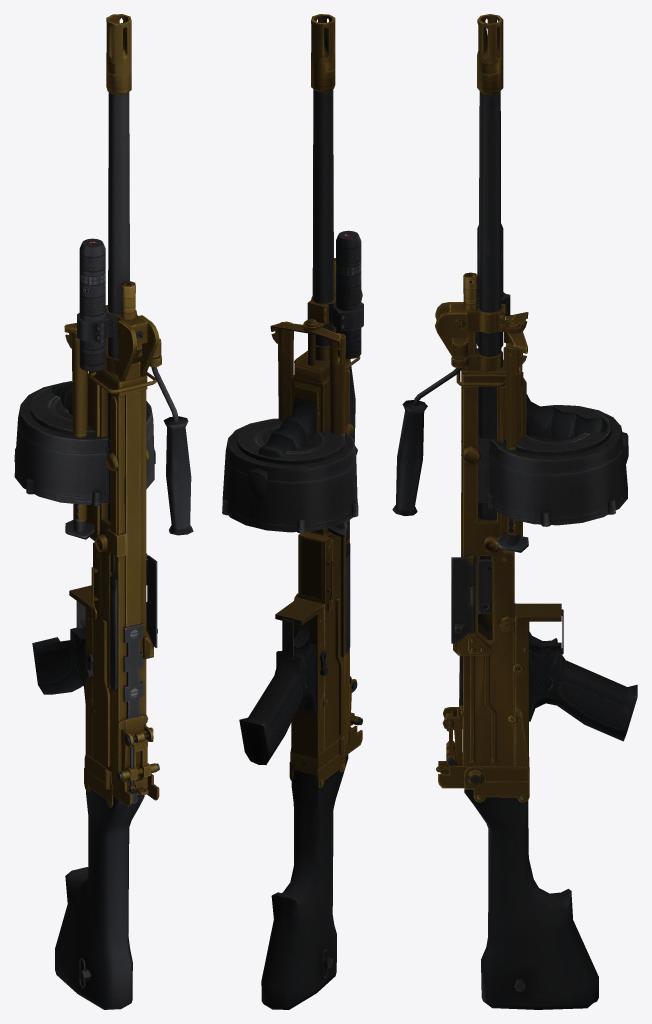
File: Ultimax-100_Gold.obj
3 views of the same model, side by side, from view 1: azimuth 30°, elevation 25°; view 2: azimuth 150°, elevation 25°; view 3: azimuth 270°, elevation 25° (orthographic). The views are drawn at different scales.
Parts seen in each view (by area): view 1: Body, Magazine, Model_Light; view 2: Body, Magazine, Model_Light; view 3: Body, Magazine, Model_Light.
Boxes of the visible parts, <box> form: Body: <box>32,14,193,1009</box>; Magazine: <box>14,382,155,505</box>; Model_Light: <box>77,238,117,371</box>; Body: <box>239,14,362,1009</box>; Magazine: <box>222,418,358,533</box>; Model_Light: <box>329,230,363,358</box>; Body: <box>392,14,637,1009</box>; Magazine: <box>462,405,627,526</box>; Model_Light: <box>477,223,510,347</box>.
Size of the model in its own units: 0.1384 by 1.02 by 0.2317.
Materials: 2 (2 with a texture image).
